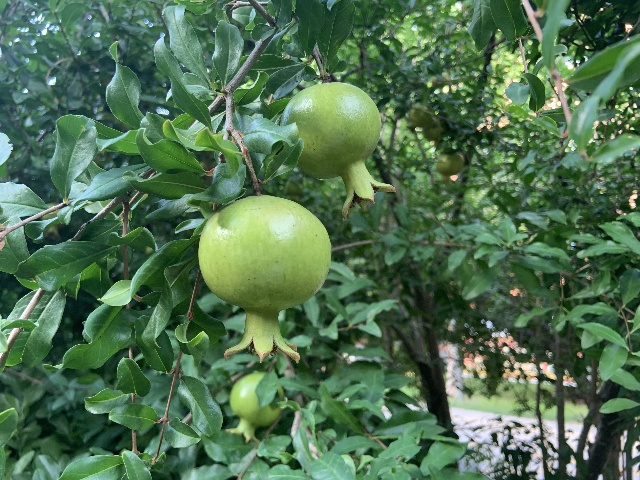mid-growth: (197, 194, 331, 365), (280, 82, 396, 220), (224, 372, 285, 443), (403, 103, 430, 136), (435, 153, 463, 182)
